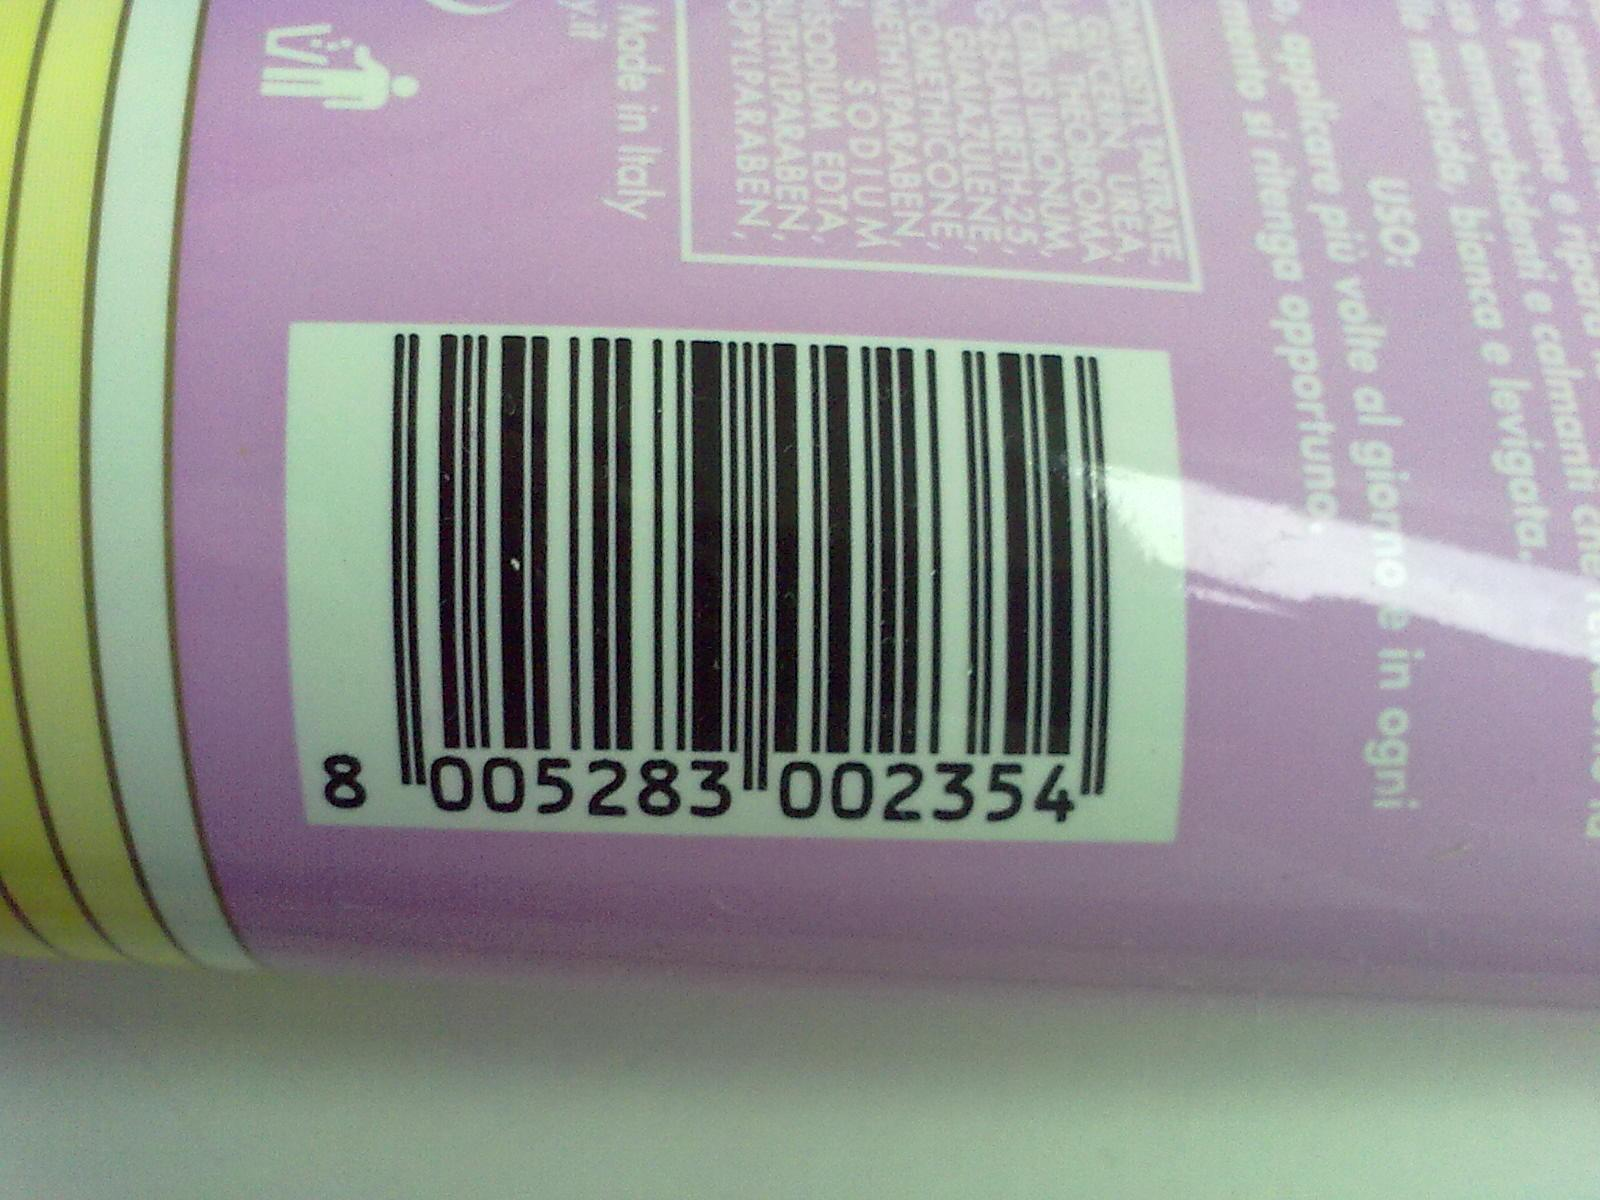barcode: (282, 320, 1187, 843)
